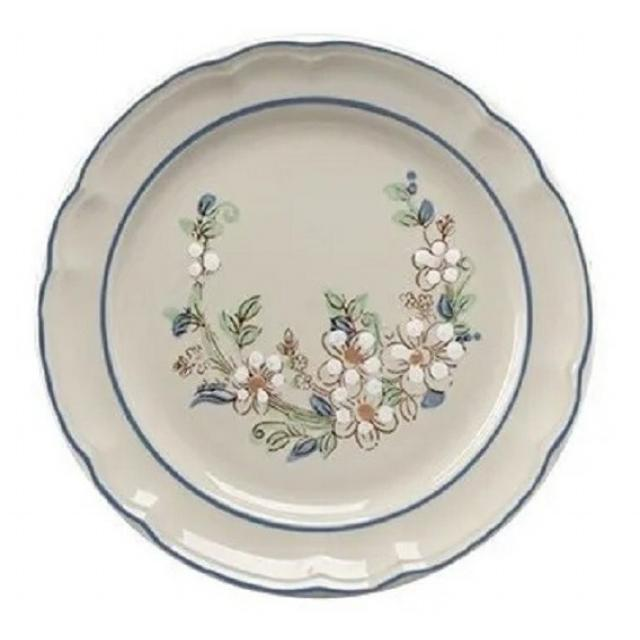ceramic plate: (47, 26, 598, 636)
